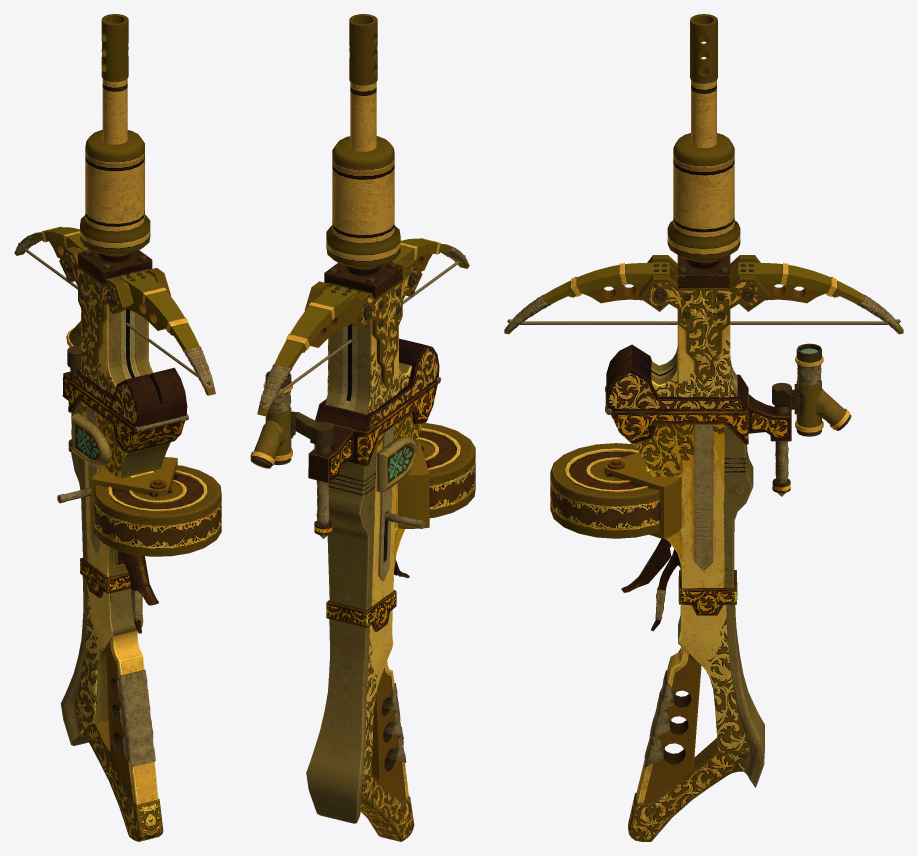
Rendered from bs_lbg004.obj.
3 views of the same model, side by side, from view 1: azimuth 30°, elevation 25°; view 2: azimuth 150°, elevation 25°; view 3: azimuth 270°, elevation 25° (orthographic). The views are drawn at different scales.
Visible parts, largest first — view 1: bs_lbg004_000_LOD_1, bs_lbg004_007_LOD_1, bs_lbg004_004_LOD_1, bs_lbg004_001_LOD_1, bs_lbg004_003_LOD_1, bs_lbg004_005_LOD_1, bs_lbg004_002_LOD_1; view 2: bs_lbg004_000_LOD_1, bs_lbg004_004_LOD_1, bs_lbg004_007_LOD_1, bs_lbg004_001_LOD_1, bs_lbg004_003_LOD_1, bs_lbg004_005_LOD_1, bs_lbg004_002_LOD_1; view 3: bs_lbg004_000_LOD_1, bs_lbg004_007_LOD_1, bs_lbg004_004_LOD_1, bs_lbg004_001_LOD_1, bs_lbg004_005_LOD_1, bs_lbg004_003_LOD_1, bs_lbg004_002_LOD_1.
Part boxes in pixels (bbox=[...]): bs_lbg004_000_LOD_1: bbox=[57, 246, 188, 841]; bs_lbg004_007_LOD_1: bbox=[91, 457, 221, 556]; bs_lbg004_004_LOD_1: bbox=[80, 129, 150, 258]; bs_lbg004_001_LOD_1: bbox=[14, 226, 215, 395]; bs_lbg004_003_LOD_1: bbox=[100, 14, 129, 262]; bs_lbg004_005_LOD_1: bbox=[66, 309, 81, 374]; bs_lbg004_002_LOD_1: bbox=[18, 243, 211, 385]; bs_lbg004_000_LOD_1: bbox=[304, 259, 440, 841]; bs_lbg004_004_LOD_1: bbox=[326, 136, 400, 271]; bs_lbg004_007_LOD_1: bbox=[398, 422, 475, 528]; bs_lbg004_001_LOD_1: bbox=[257, 238, 469, 415]; bs_lbg004_003_LOD_1: bbox=[348, 14, 378, 275]; bs_lbg004_005_LOD_1: bbox=[250, 371, 333, 468]; bs_lbg004_002_LOD_1: bbox=[261, 255, 465, 404]; bs_lbg004_000_LOD_1: bbox=[605, 255, 791, 841]; bs_lbg004_007_LOD_1: bbox=[550, 443, 681, 539]; bs_lbg004_004_LOD_1: bbox=[667, 133, 740, 264]; bs_lbg004_001_LOD_1: bbox=[504, 262, 903, 334]; bs_lbg004_005_LOD_1: bbox=[772, 343, 851, 436]; bs_lbg004_003_LOD_1: bbox=[689, 14, 718, 268]; bs_lbg004_002_LOD_1: bbox=[507, 319, 900, 324].
Bounding box in the file's own units: 27.99 × 191 × 84.56.
